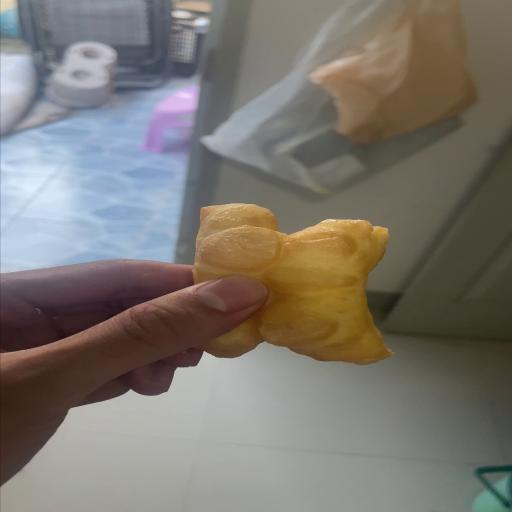street_golden_good: (194, 203, 392, 363)
